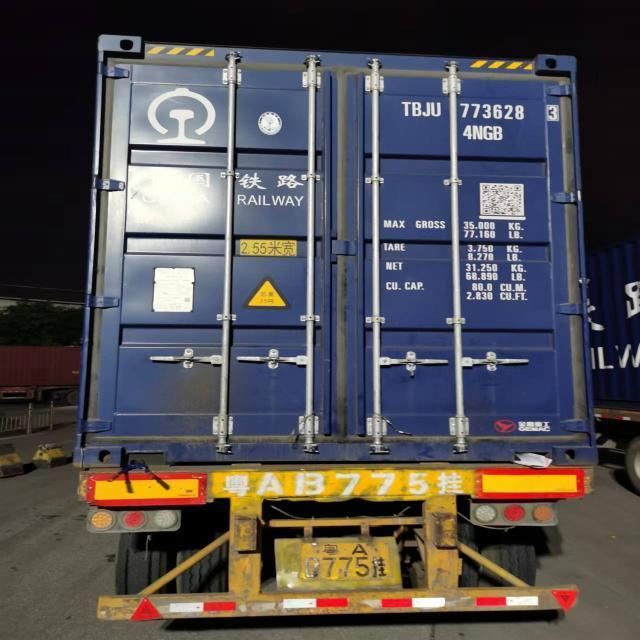ISO: (464, 125, 504, 142)
container_number: (403, 100, 562, 124)
